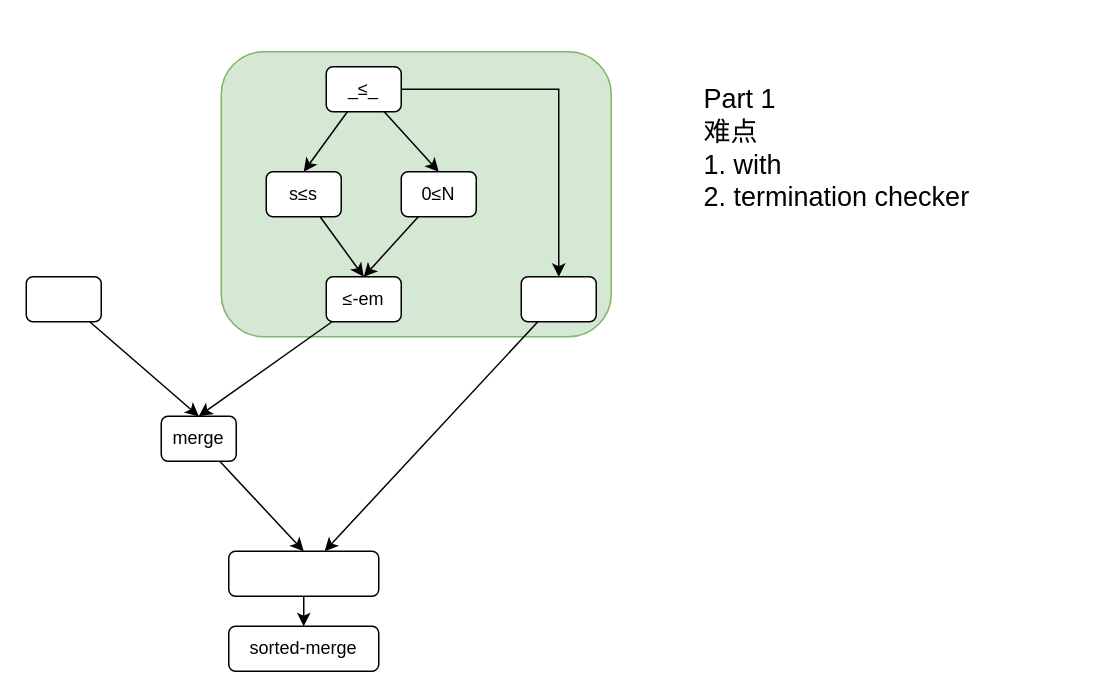
Image size: 1118x698. Some labels were removed from this diagram. The centre of each missing label's shape, as x and y in pixels:
List: [63,298]
sf-lemma: [303,573]
sorted: [558,298]
